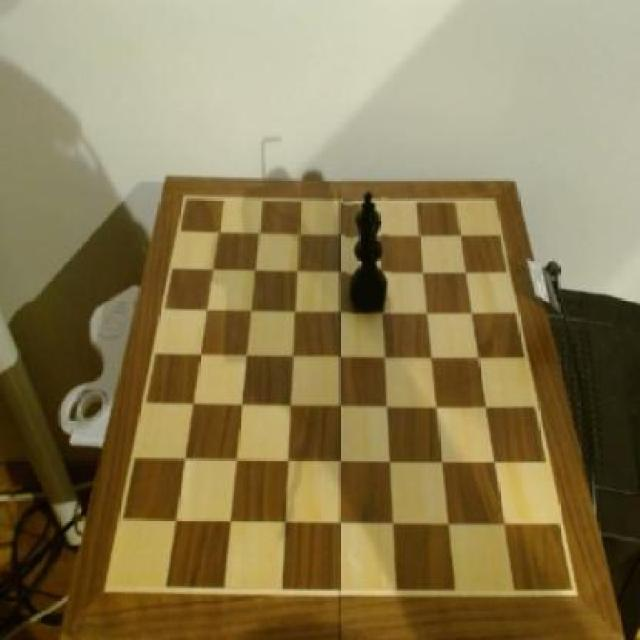black-bishop: (346, 186, 393, 312)
